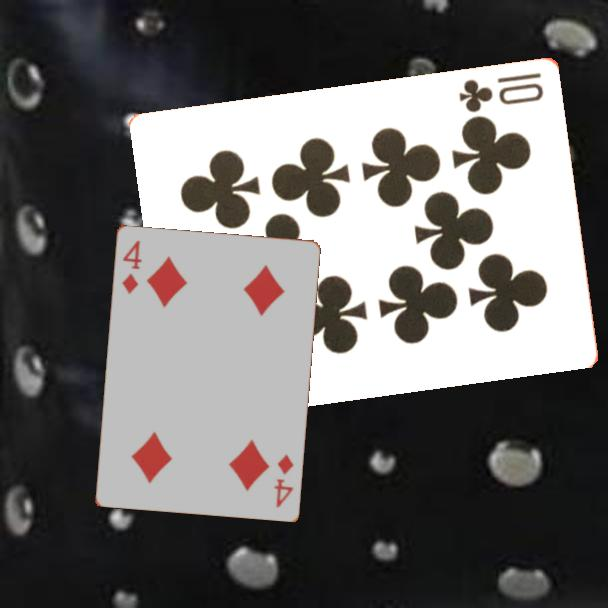c10: (455, 68, 547, 114)
d04: (118, 236, 145, 297), (270, 450, 296, 510)
